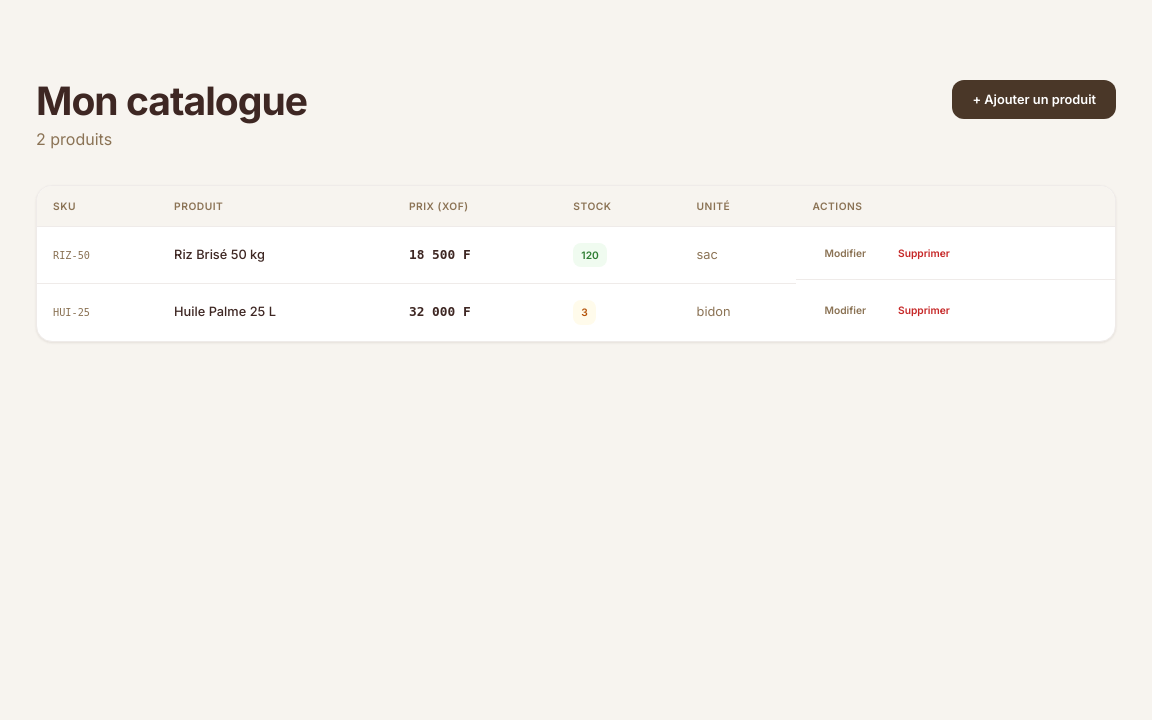
Test case: ProductManager — UC-01, UC-02 › closes modal on cancel
The width and height of the screenshot is (1152, 720).
Click the button with test id "pm-add-btn": (1034, 100) [952, 80, 1116, 119]
(page scrolled)
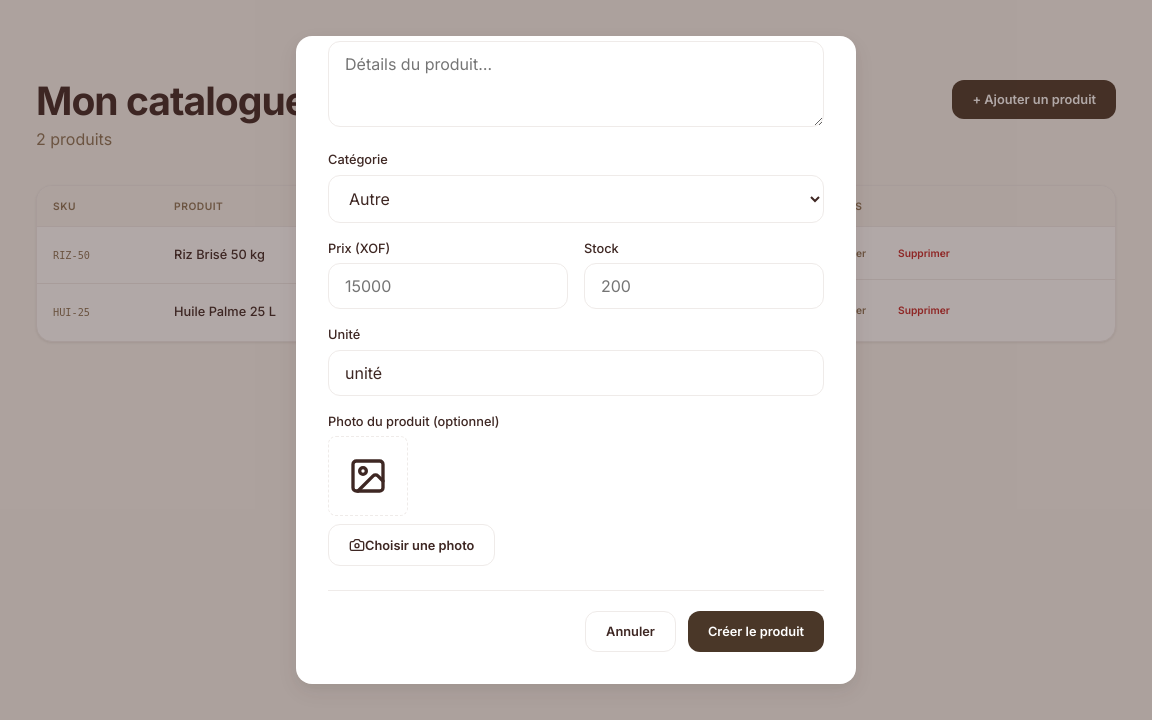
Check: the element with test id "pm-modal" is shown
Click the button with test id "pm-cancel-btn": (630, 632) [585, 611, 676, 652]
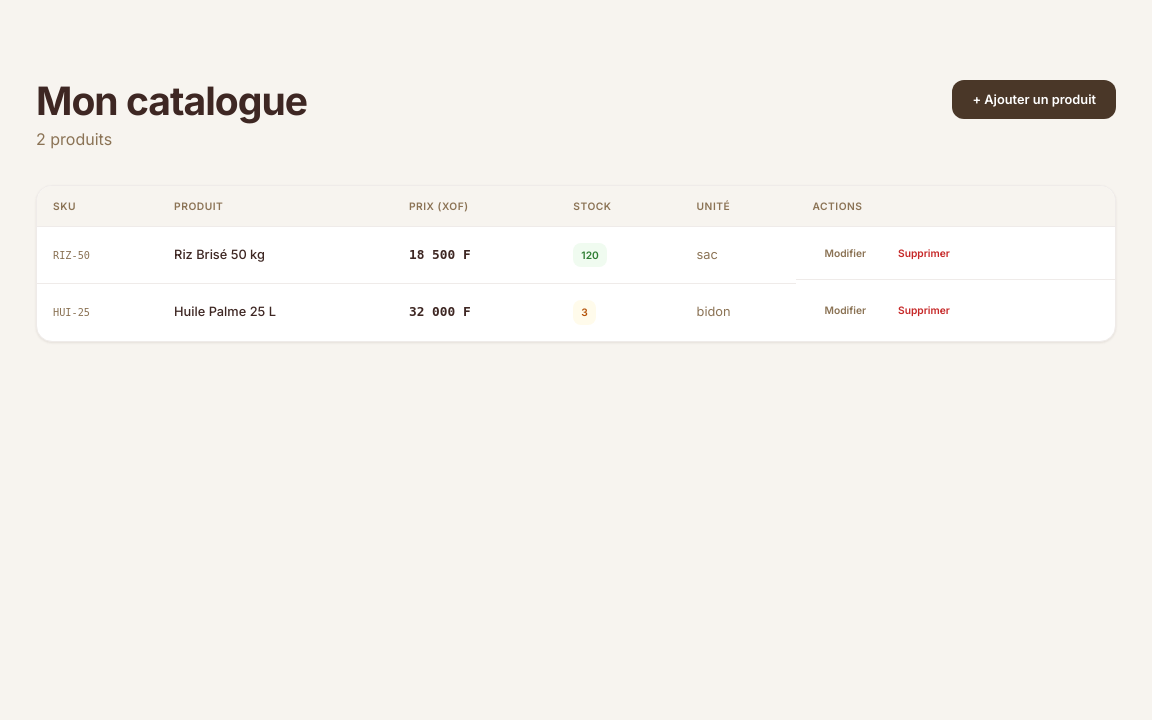
Check: the element with test id "pm-modal" is gone
